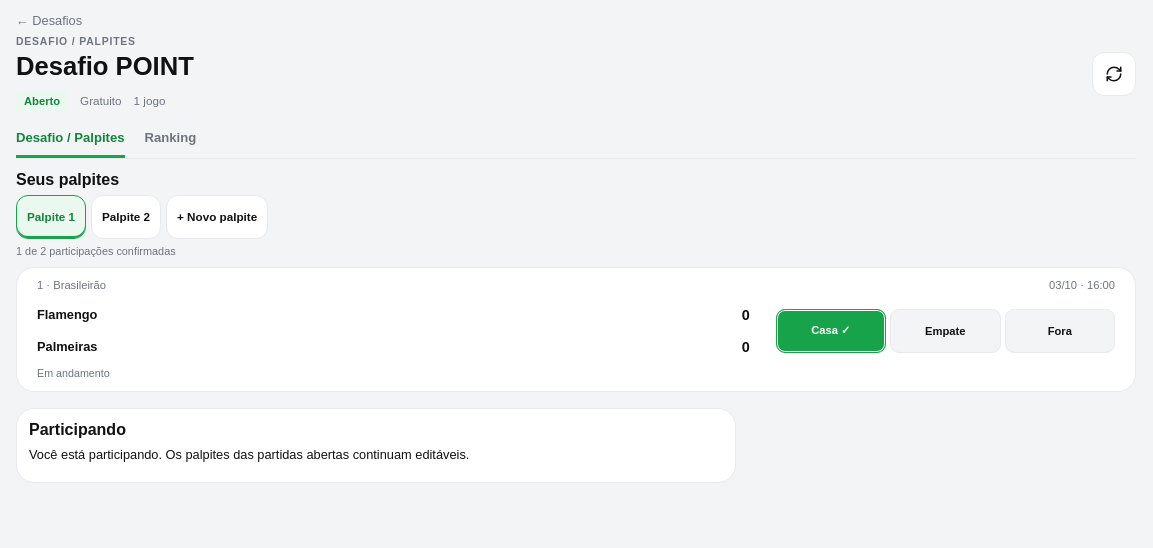
Test: polling atualiza placar, aguarda apuração e preserva Palpite 2 até parar
Click the button "Palpite 2" at (126, 217), box [91,195,161,239]
Wait 300000 ms
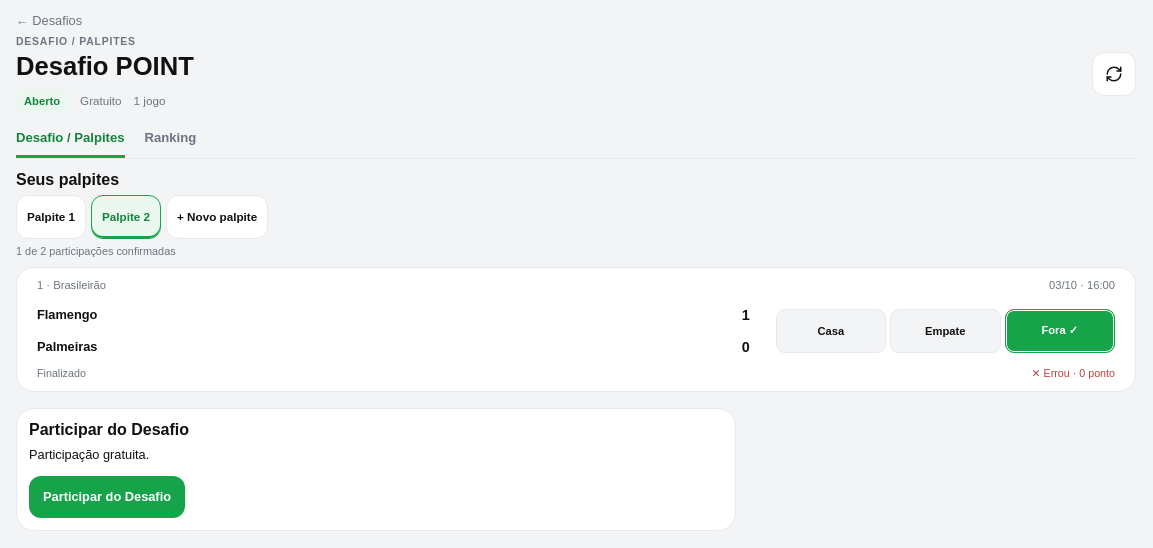
Expected: the text named "Placar do Flamengo" reads "1", [742,307,750,323]
Expected: the text "Finalizado" is shown, [37,366,86,381]
Expected: the text "✕ Errou · 0 ponto" is shown, [1032,366,1115,381]
Click the button "Palpite 1" at (51, 217), box [16,195,86,239]
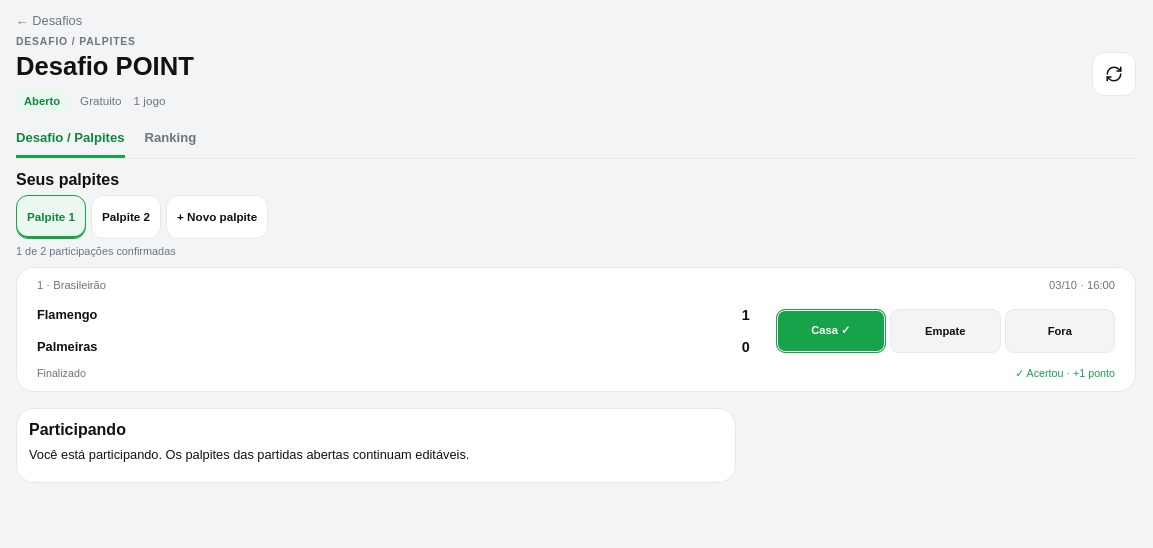
Expected: the text "✓ Acertou · +1 ponto" is shown, [1015,366,1115,381]
